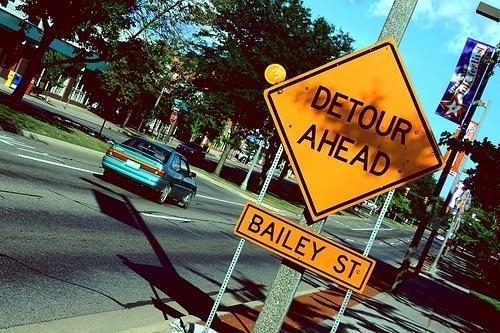car: (101, 136, 198, 208)
